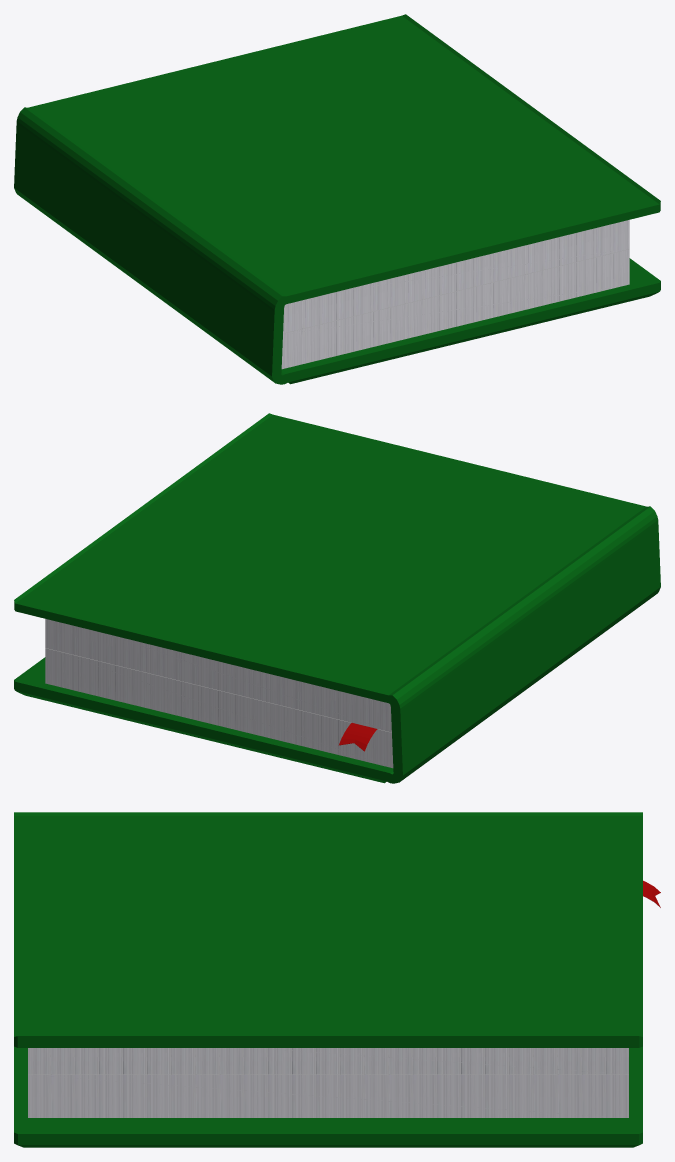
Rendered from libro3.fbx.
3 renders of one model, top to bottom at view 1: azimuth 30°, elevation 25°; view 2: azimuth 150°, elevation 25°; view 3: azimuth 270°, elevation 25°, orthographic. The views are drawn at different scales.
Visible parts, largest first — view 1: book1:Mesh; view 2: book1:Mesh; view 3: book1:Mesh.
Boxes of the visible parts, x1=… form: book1:Mesh: x1=14, y1=14, x2=660, y2=384; book1:Mesh: x1=14, y1=413, x2=660, y2=783; book1:Mesh: x1=14, y1=812, x2=660, y2=1147.
Size of the model in its own units: 1.75 by 0.4091 by 2.06.
4 materials, 1 textured.
